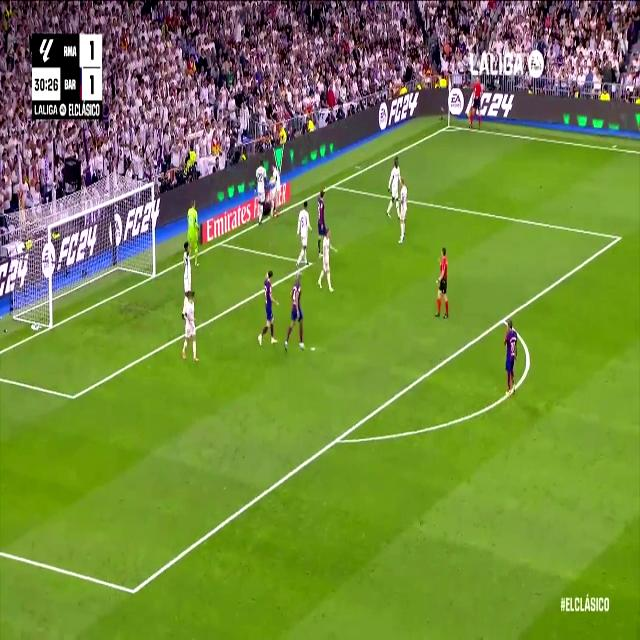bigarea_bottom_inner: (126, 573, 140, 608)
bigarea_top_inner: (614, 227, 623, 248)
bigarea_top_outter: (328, 176, 338, 194)
bottom_arc_area_intersection: (330, 422, 346, 456)
corner: (442, 119, 454, 133)
smallarea_bottom_inner: (68, 385, 78, 409)
top_arc_area_intersection: (498, 308, 508, 330)
